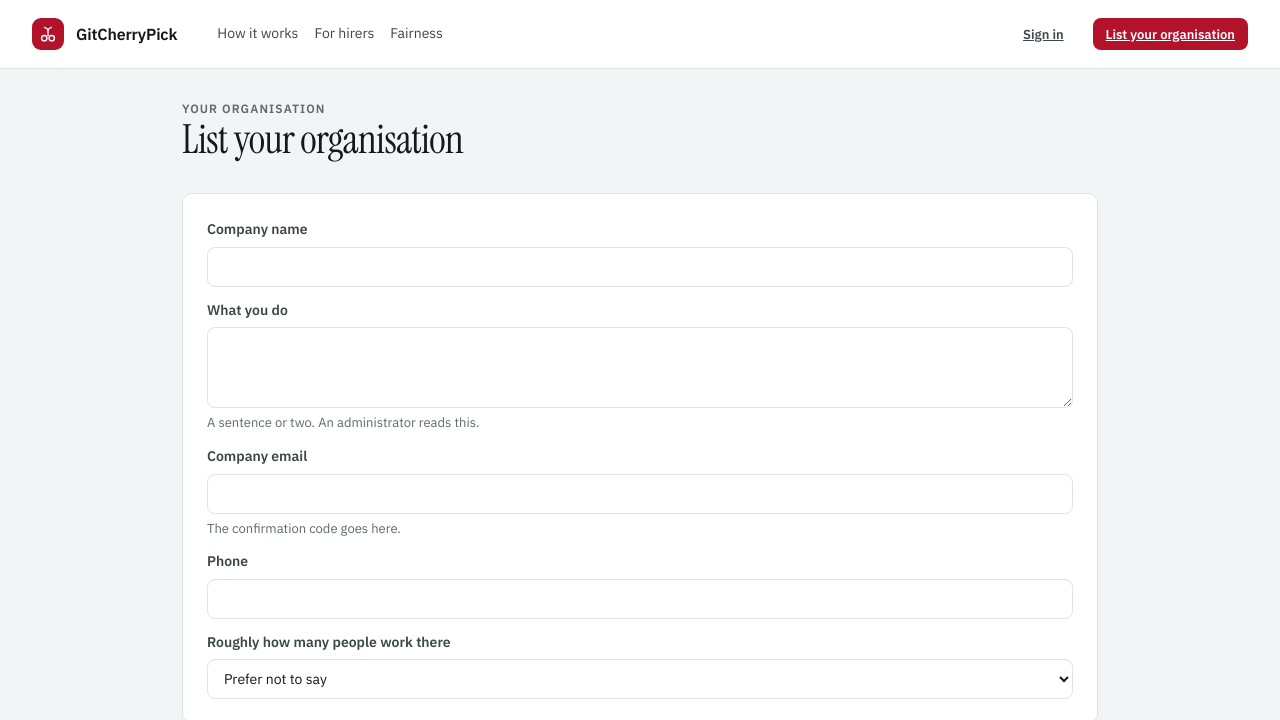
Test: the app renders › says plainly that nothing has been created yet
The image size is (1280, 720).
In the field labelled "Company name": (640, 267) [207,247,1073,287], type "Acme Corp"
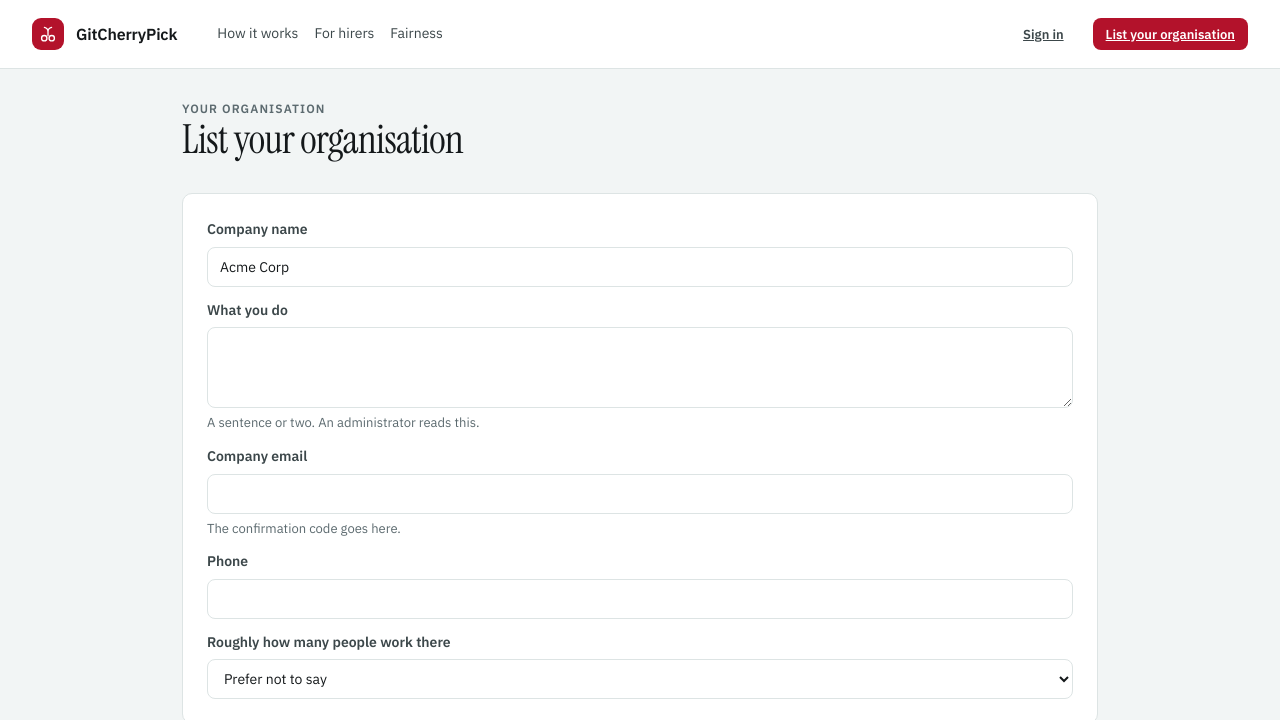
In the field labelled "Company email": (640, 494) [207,474,1073,514], type "hiring@acme.example"
(page scrolled)
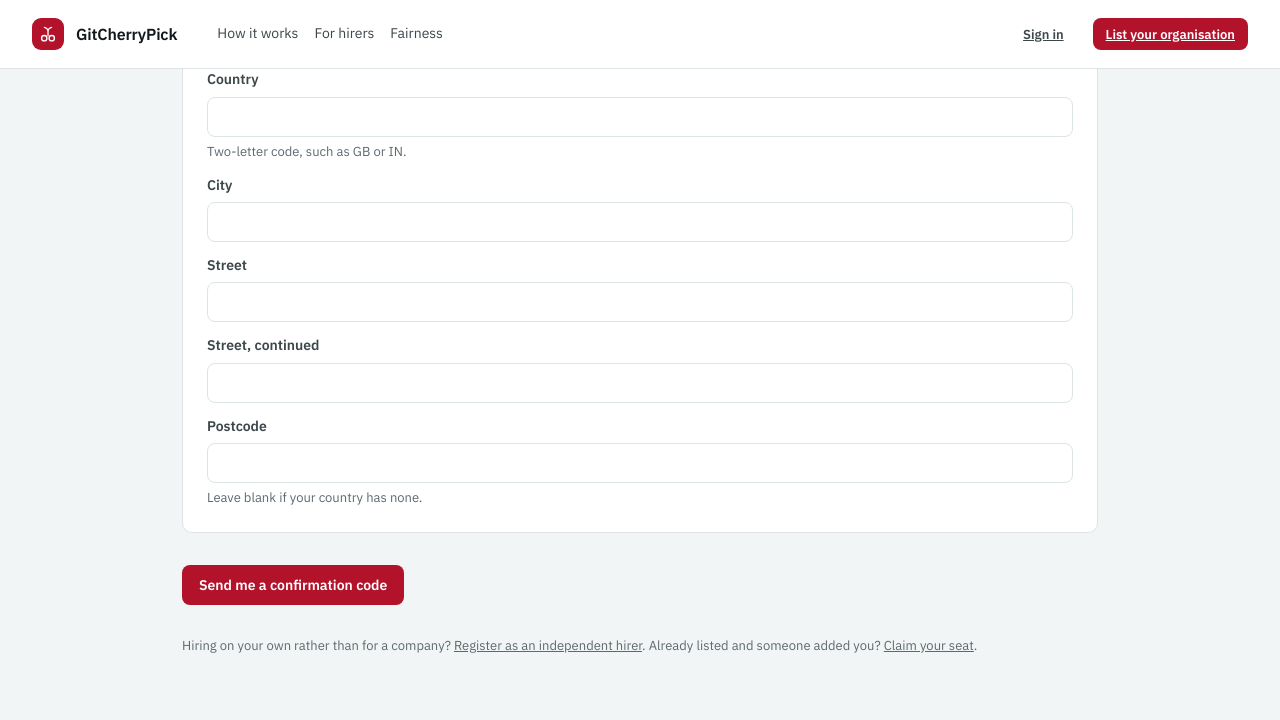
Click the button "Send me a confirmation code": (293, 585) [182,565,404,605]
(page scrolled)
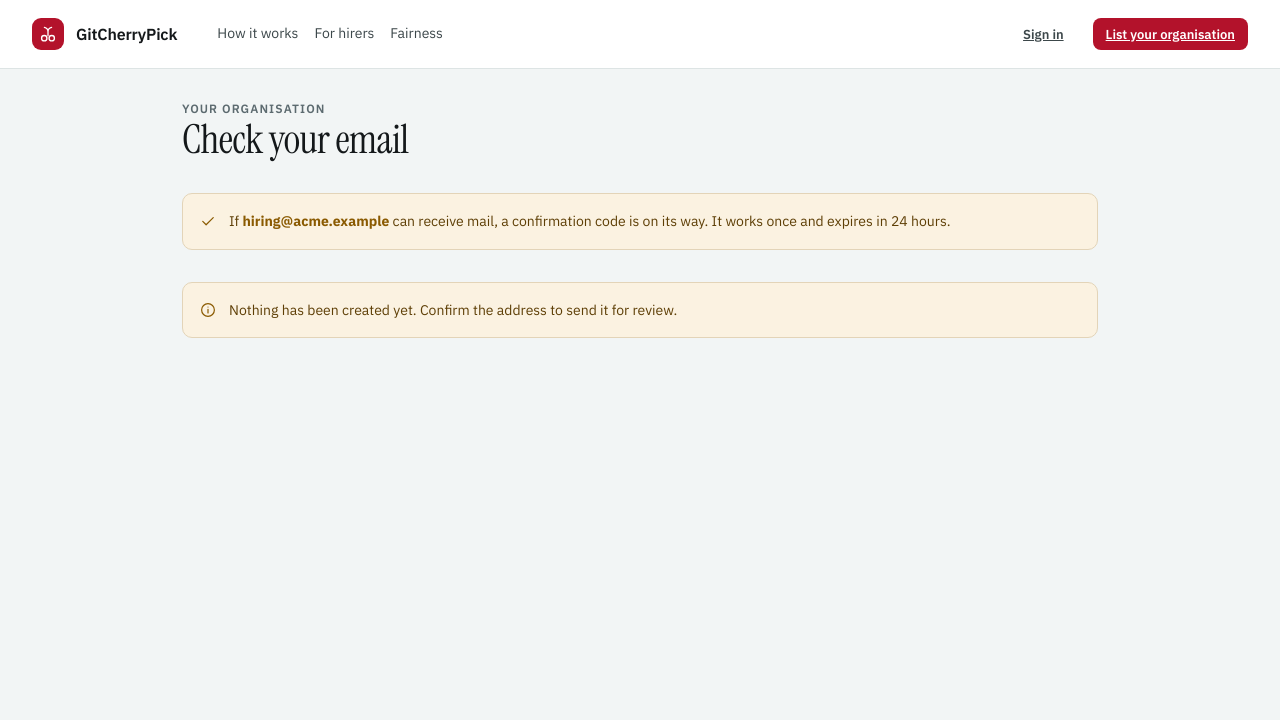
Expected: the heading "Check your email" is shown, [182,118,408,161]
Expected: the text "Nothing has been created yet" is shown, [229,301,677,319]
